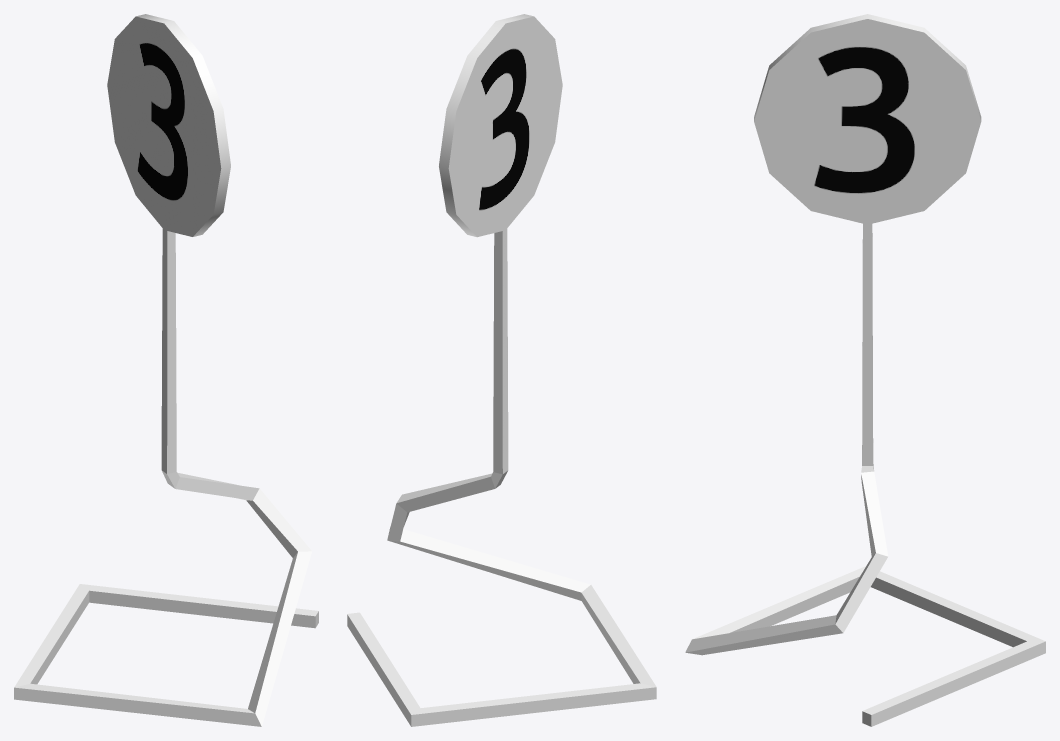
File: Marker_3.FBX
3 renders of one model, left to right at view 1: azimuth 30°, elevation 25°; view 2: azimuth 150°, elevation 25°; view 3: azimuth 270°, elevation 25°, orthographic.
Visible parts, largest first — view 1: Marker_3; view 2: Marker_3; view 3: Marker_3.
Part boxes in pixels (bbox=[...]): Marker_3: bbox=[14, 14, 318, 726]; Marker_3: bbox=[347, 14, 656, 726]; Marker_3: bbox=[685, 14, 1045, 726].
Size of the model in its own units: 4.03 by 8.02 by 4.11.
